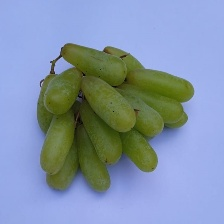grapes: (21, 36, 184, 189)
